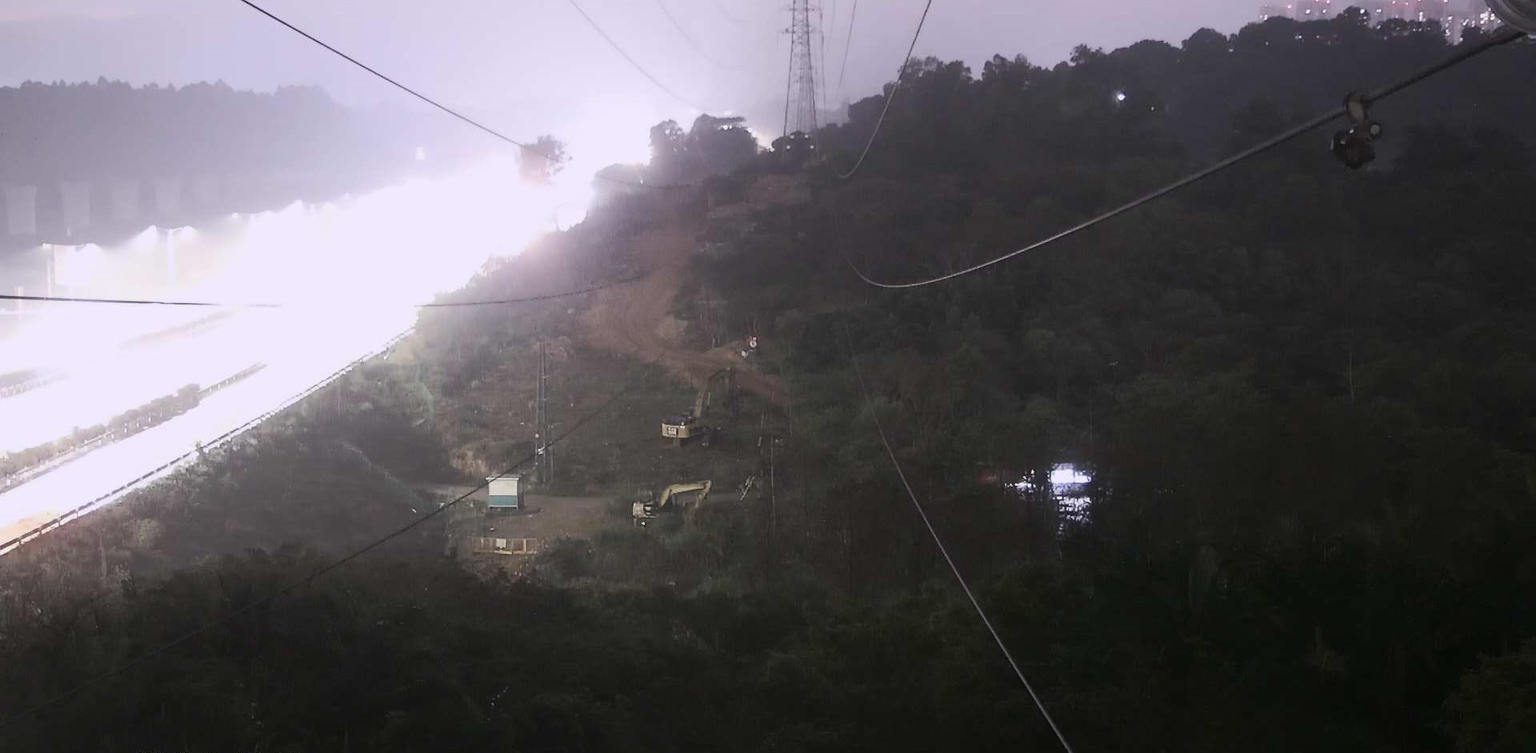过爆灯光: (0, 120, 655, 558)
